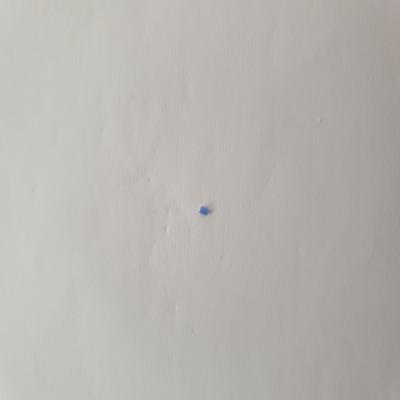plastic: (195, 201, 214, 218)
